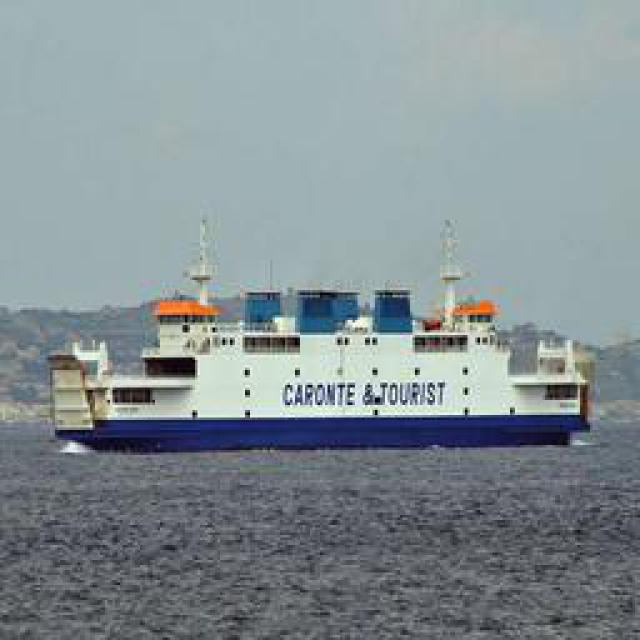Ship: (51, 207, 604, 457)
